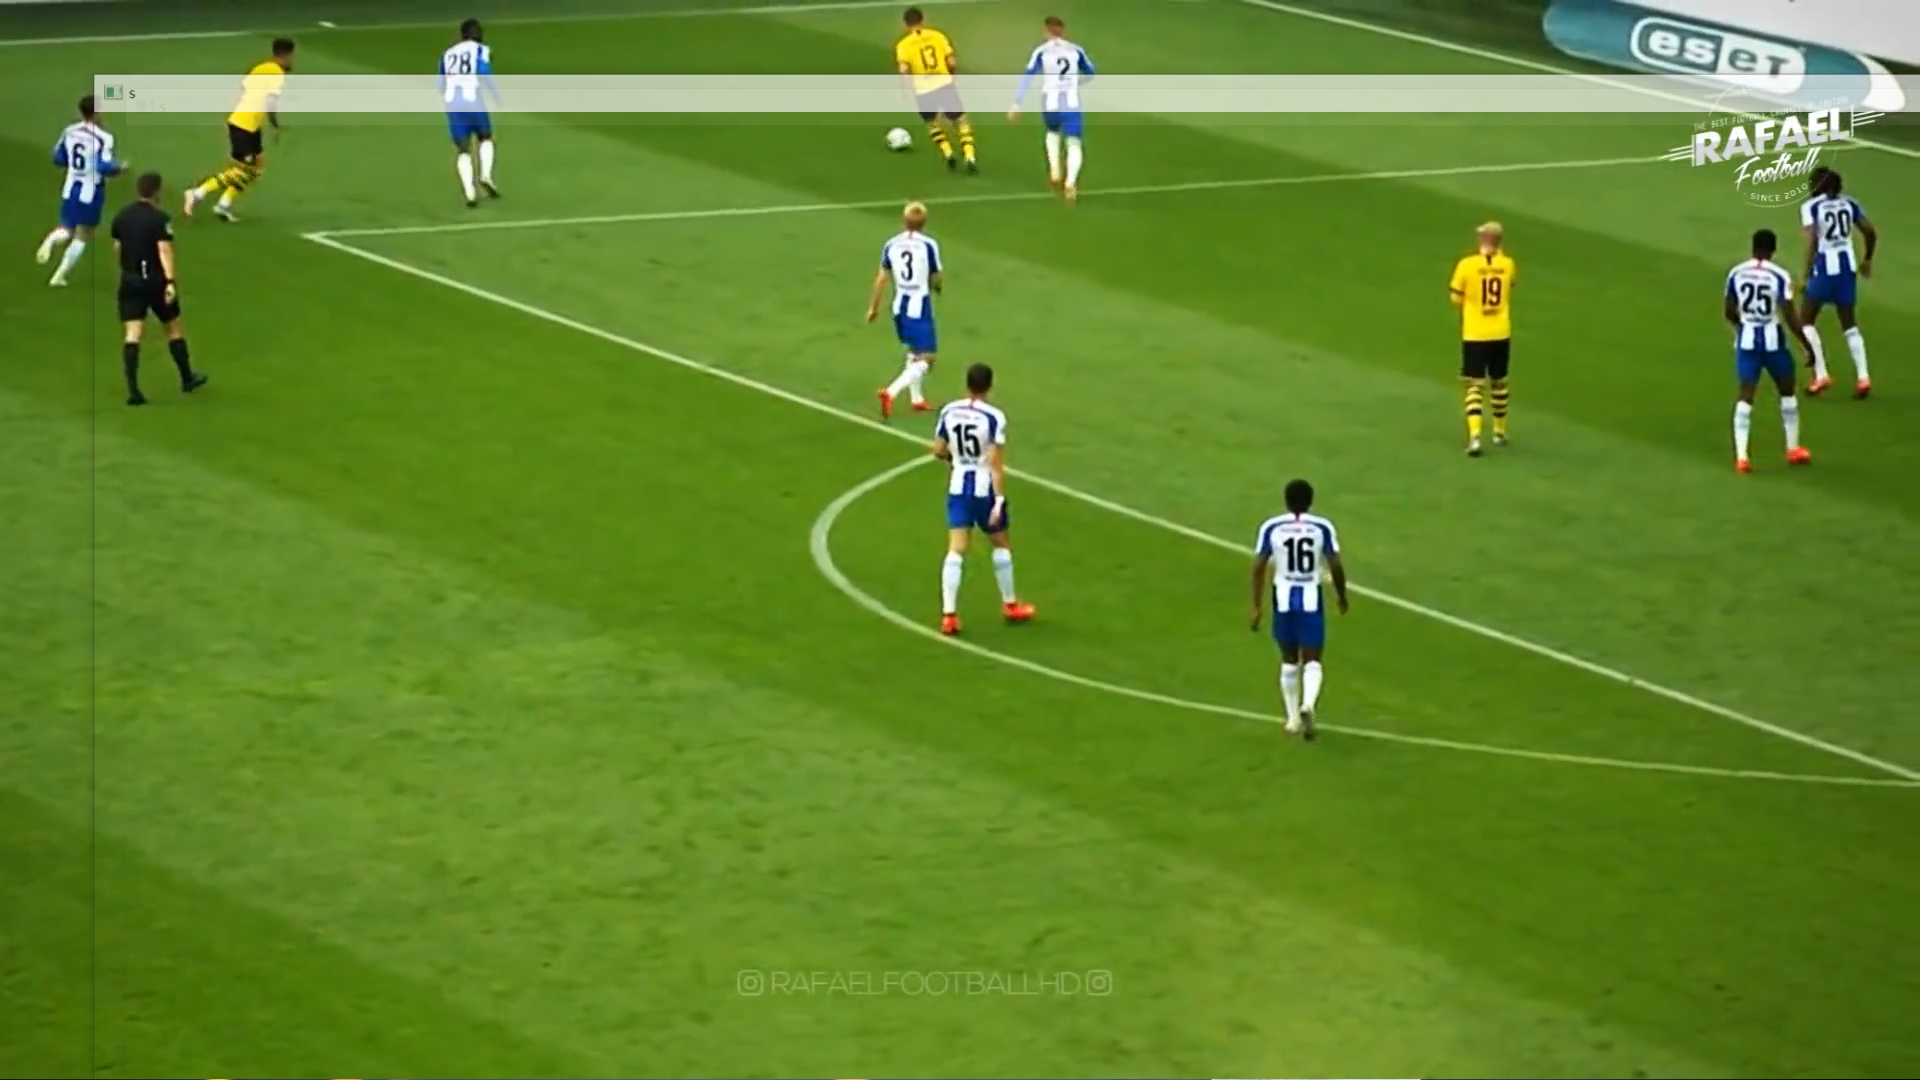ft: (884, 124, 915, 154)
